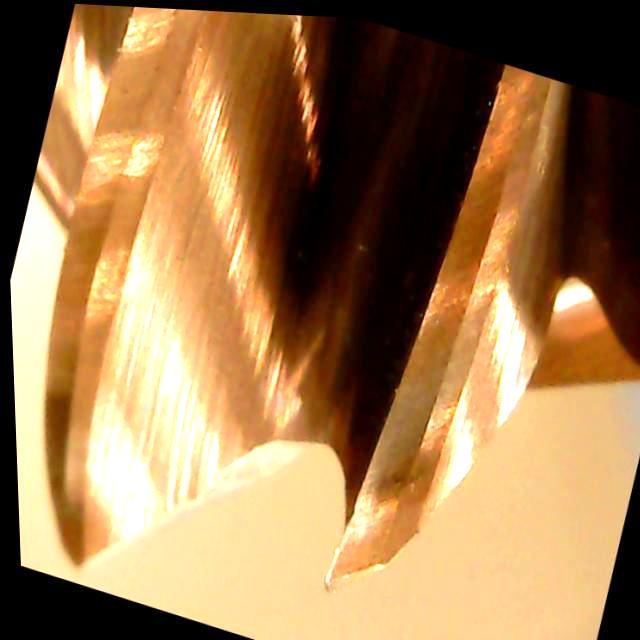Tool-wear-class-0: (288, 195, 524, 623)
